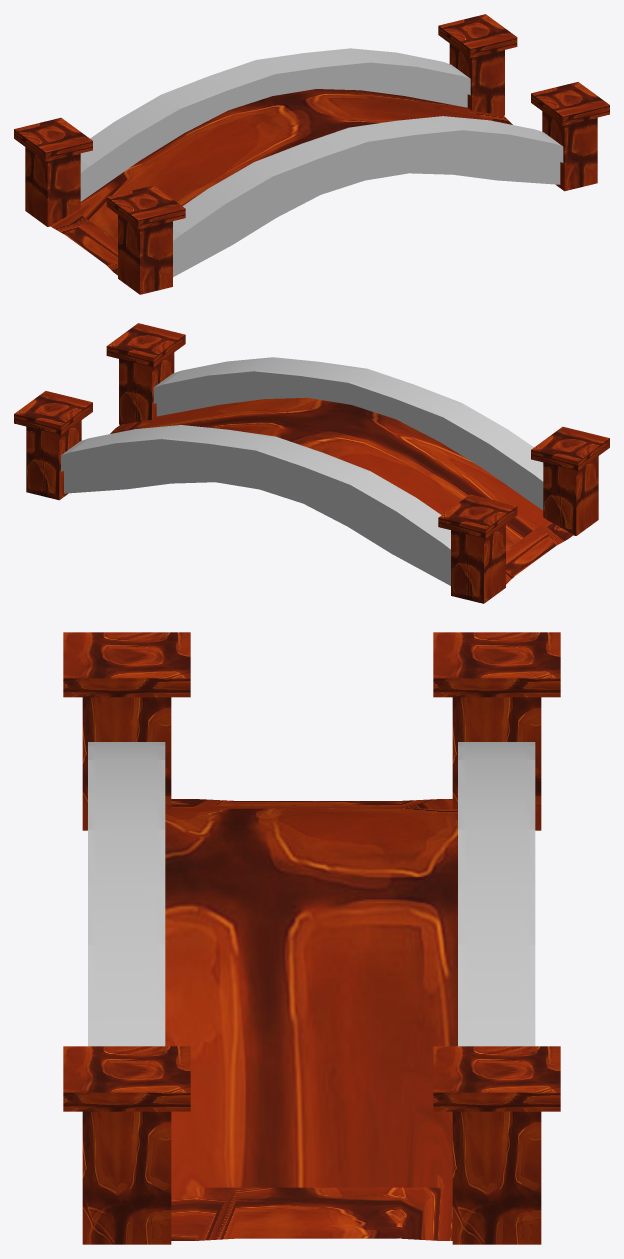
File: bridge_colorless.fbx
3 views of the same model, one above another, from view 1: azimuth 30°, elevation 25°; view 2: azimuth 150°, elevation 25°; view 3: azimuth 270°, elevation 25° (orthographic). The views are drawn at different scales.
Parts seen in each view (by area): view 1: pCube1, polySurface5, polySurface11, polySurface12, polySurface6, polySurface7, polySurface1, polySurface9, polySurface3, polySurface8, polySurface4, polySurface2 (+1 smaller); view 2: pCube1, polySurface11, polySurface5, polySurface6, polySurface12, polySurface1, polySurface7, polySurface3, polySurface9, polySurface2, polySurface10, polySurface8 (+1 smaller); view 3: pCube1, polySurface11, polySurface5, polySurface9, polySurface3, polySurface8, polySurface10, polySurface2, polySurface4, polySurface1, polySurface7.
Boxes of the visible parts, <box> form: pCube1: <box>50,89,512,275</box>; polySurface5: <box>80,48,470,188</box>; polySurface11: <box>173,116,563,256</box>; polySurface12: <box>173,143,560,277</box>; polySurface6: <box>80,75,467,201</box>; polySurface7: <box>118,215,172,294</box>; polySurface1: <box>25,147,80,226</box>; polySurface9: <box>542,111,597,191</box>; polySurface3: <box>449,43,504,115</box>; polySurface8: <box>106,185,185,229</box>; polySurface4: <box>438,14,517,58</box>; polySurface2: <box>14,117,92,161</box>; pCube1: <box>110,397,573,584</box>; polySurface11: <box>153,357,543,497</box>; polySurface5: <box>61,425,450,564</box>; polySurface6: <box>64,452,450,585</box>; polySurface12: <box>156,384,543,510</box>; polySurface1: <box>451,524,505,603</box>; polySurface7: <box>543,456,598,535</box>; polySurface3: <box>26,420,81,500</box>; polySurface9: <box>119,352,174,424</box>; polySurface2: <box>438,494,517,538</box>; polySurface10: <box>106,323,185,367</box>; polySurface8: <box>531,426,609,470</box>; pCube1: <box>165,799,457,1240</box>; polySurface11: <box>88,742,165,1046</box>; polySurface5: <box>458,742,535,1046</box>; polySurface9: <box>82,1111,171,1244</box>; polySurface3: <box>452,1111,541,1244</box>; polySurface8: <box>63,632,190,697</box>; polySurface10: <box>63,1046,190,1111</box>; polySurface2: <box>433,632,560,697</box>; polySurface4: <box>433,1046,560,1111</box>; polySurface1: <box>452,697,541,830</box>; polySurface7: <box>82,697,171,830</box>.
Size of the model in its own units: 24.14 by 4.7 by 11.02.
